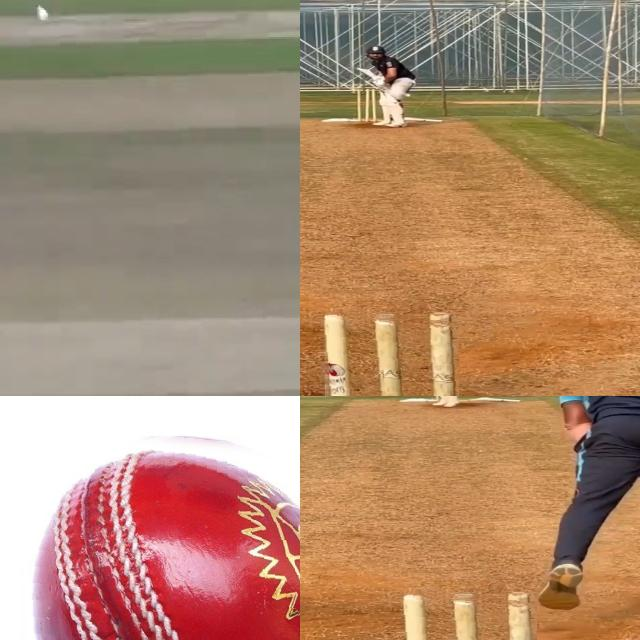Cricket ball: (2, 420, 300, 640), (33, 0, 50, 26)
Stumps: (321, 309, 458, 396), (397, 589, 536, 640), (353, 87, 378, 125)
